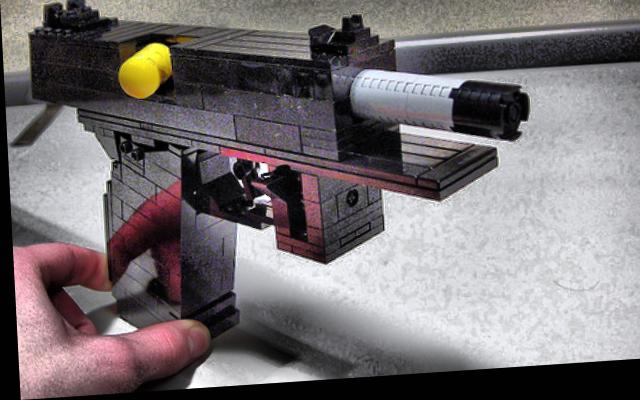pistol: (27, 0, 538, 352)
